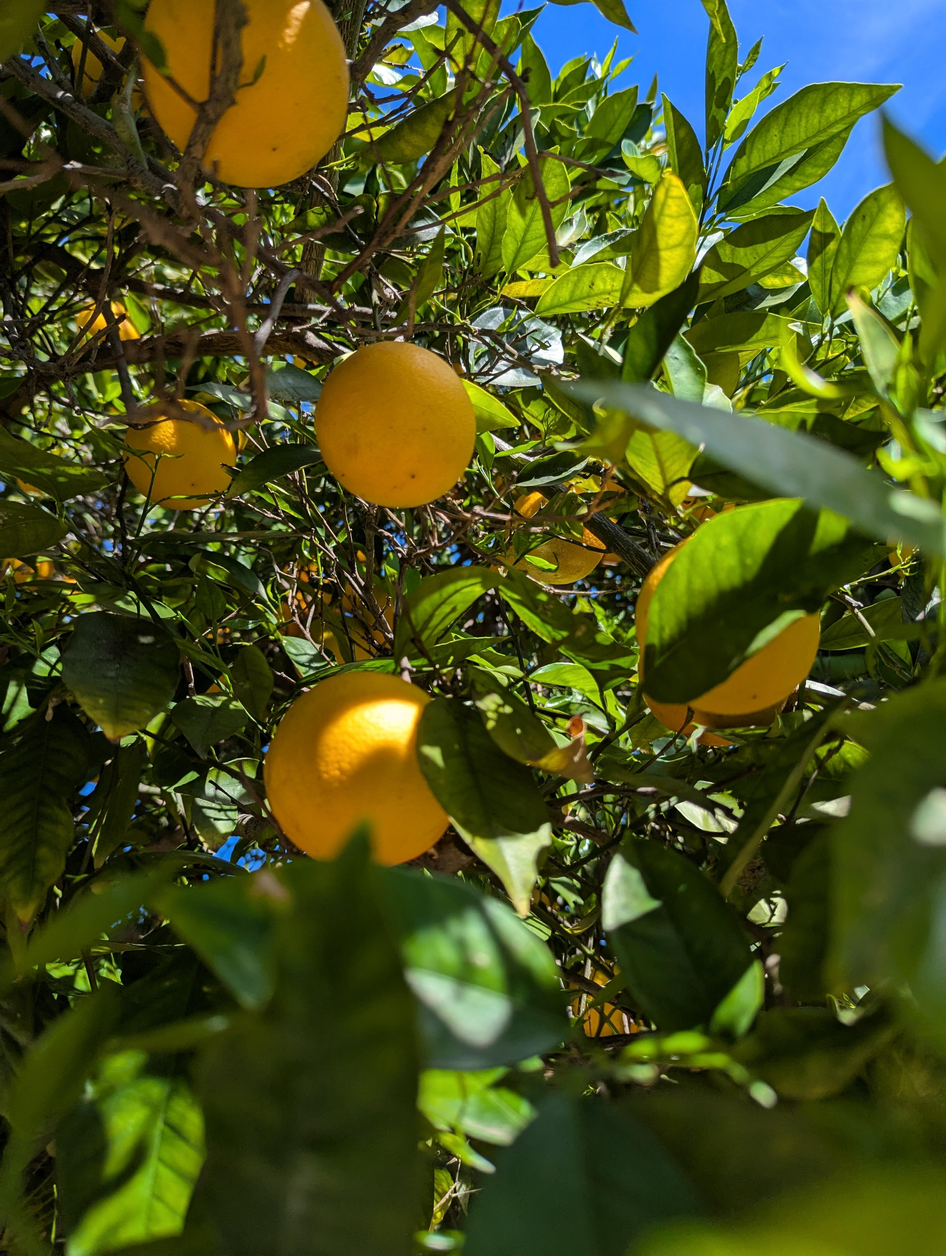orange: (142, 0, 349, 189), (264, 671, 449, 865), (636, 542, 819, 714), (314, 341, 477, 508), (638, 653, 789, 747), (125, 401, 236, 509), (506, 490, 607, 585), (570, 960, 643, 1038), (298, 615, 377, 665), (72, 29, 125, 99), (76, 301, 140, 345)
